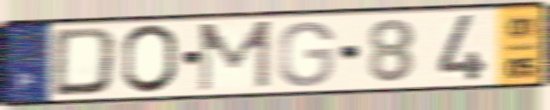4: (434, 12, 489, 84)
8: (366, 17, 419, 85)
D: (49, 25, 121, 99)
G: (275, 19, 336, 89)
M: (195, 18, 274, 95)
O: (119, 22, 180, 97)
